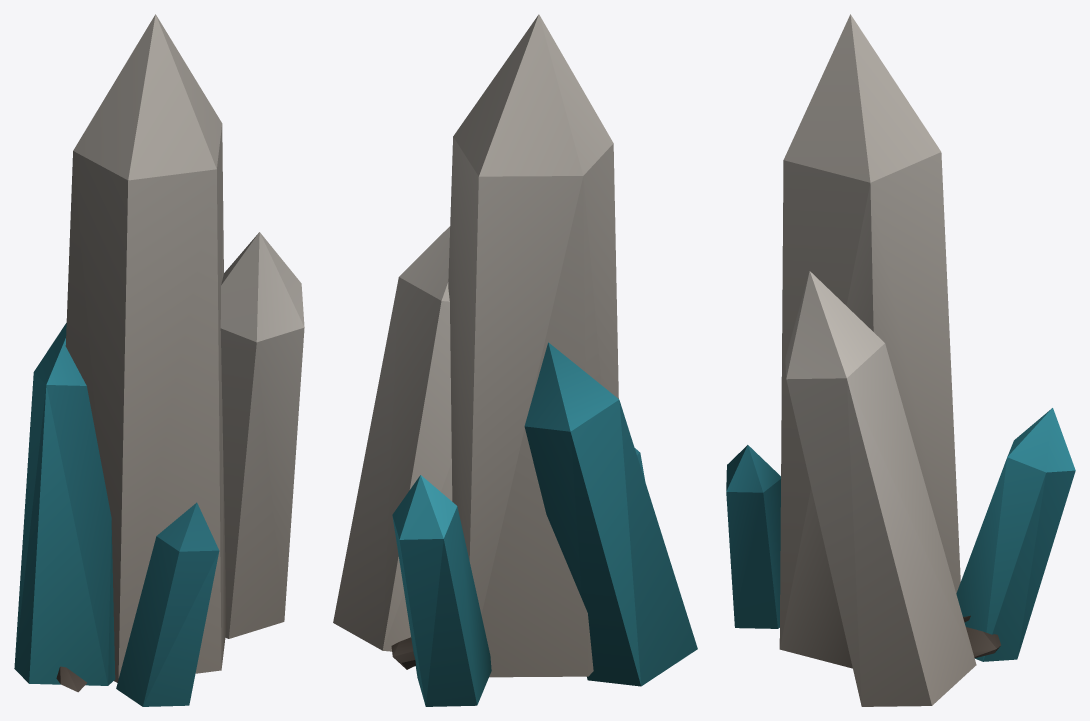
Rendered from frost_spire.glb.
The picture shows the model from 3 angles, left to right: view 1: azimuth 30°, elevation 25°; view 2: azimuth 150°, elevation 25°; view 3: azimuth 270°, elevation 25°; orthographic projection. The views are drawn at different scales.
Parts seen in each view (by area): view 1: ca_frost_spire; view 2: ca_frost_spire; view 3: ca_frost_spire.
Boxes of the visible parts, <box> form: ca_frost_spire: <box>14,14,304,706</box>; ca_frost_spire: <box>333,14,697,706</box>; ca_frost_spire: <box>726,14,1075,706</box>.
Size of the model in its own units: 1.69 by 3.36 by 1.69.
Materials: 1 (1 with a texture image).
